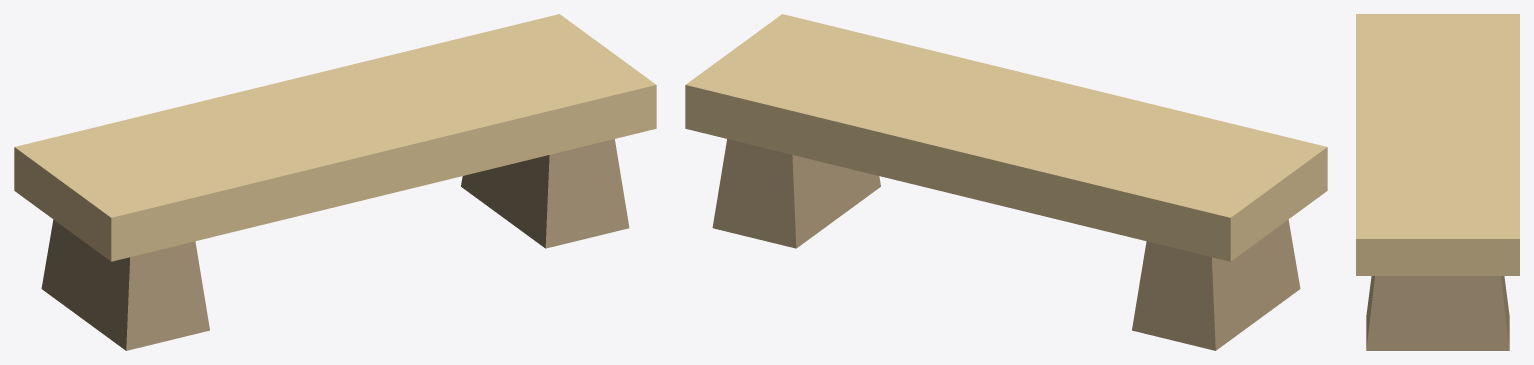
The model's file is bench_stone.fbx.
3 views of the same model, side by side, from view 1: azimuth 30°, elevation 25°; view 2: azimuth 150°, elevation 25°; view 3: azimuth 270°, elevation 25° (orthographic). The views are drawn at different scales.
Parts seen in each view (by area): view 1: bench_stone; view 2: bench_stone; view 3: bench_stone.
Part boxes in pixels (left/top/right/bottom): bench_stone: left=14, top=14, right=656, bottom=350; bench_stone: left=685, top=14, right=1327, bottom=350; bench_stone: left=1356, top=14, right=1519, bottom=350.
Size of the model in its own units: 2.6 by 0.65 by 0.8.
1 material, 1 textured.
